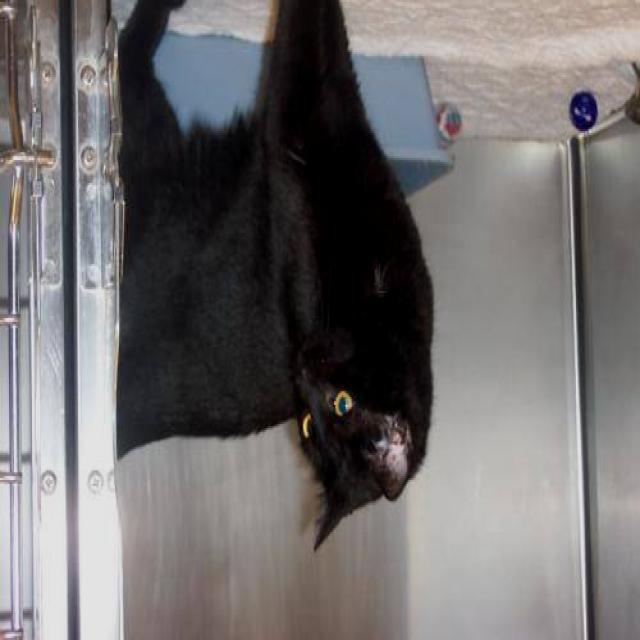Kucing: (92, 44, 472, 549)
